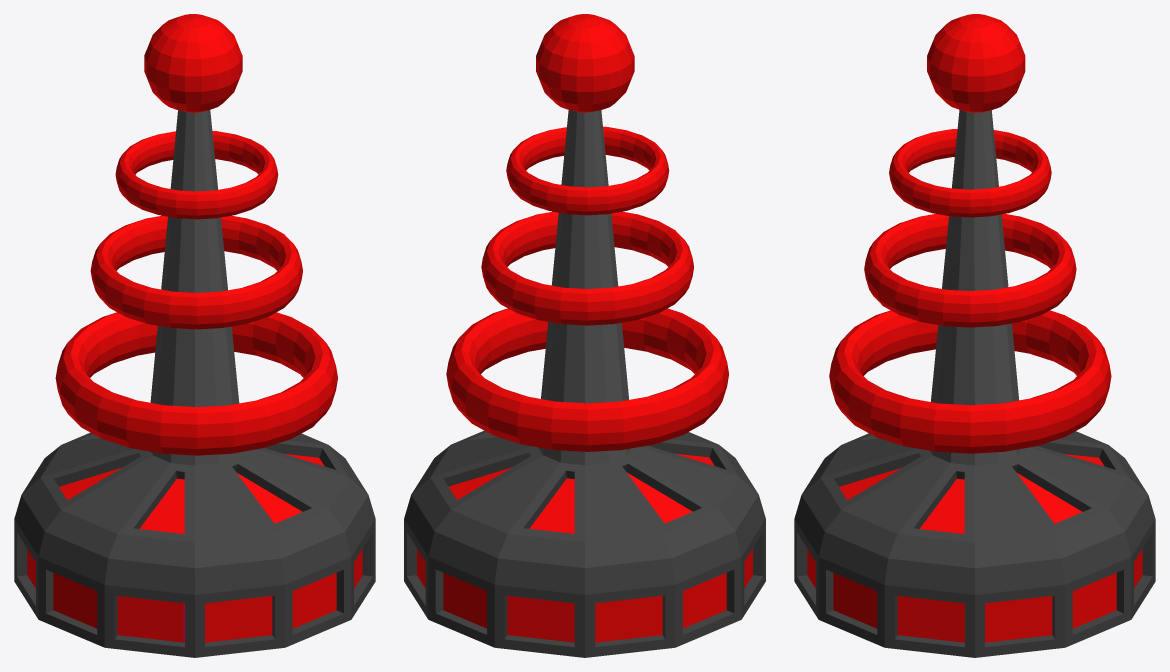
The model's file is NEWRedLaser.FBX.
3 renders of one model, left to right at view 1: azimuth 30°, elevation 25°; view 2: azimuth 150°, elevation 25°; view 3: azimuth 270°, elevation 25°, orthographic.
Parts seen in each view (by area): view 1: ChamferCyl001, Torus001, Torus002, Torus003; view 2: ChamferCyl001, Torus001, Torus002, Torus003; view 3: ChamferCyl001, Torus001, Torus002, Torus003.
Boxes of the visible parts, x1=… form: ChamferCyl001: x1=14, y1=14, x2=375, y2=657; Torus001: x1=55, y1=312, x2=337, y2=455; Torus002: x1=90, y1=215, x2=302, y2=329; Torus003: x1=115, y1=131, x2=278, y2=219; ChamferCyl001: x1=404, y1=14, x2=765, y2=657; Torus001: x1=446, y1=308, x2=728, y2=451; Torus002: x1=481, y1=211, x2=693, y2=325; Torus003: x1=506, y1=126, x2=669, y2=215; ChamferCyl001: x1=794, y1=14, x2=1155, y2=657; Torus001: x1=829, y1=310, x2=1111, y2=453; Torus002: x1=864, y1=214, x2=1076, y2=327; Torus003: x1=889, y1=129, x2=1051, y2=217.
Size of the model in its own units: 35.09 by 60.35 by 35.09.
